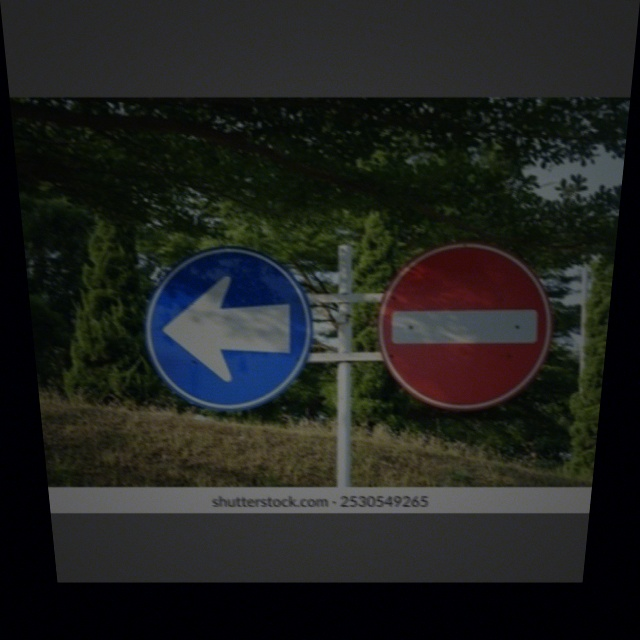Compulsory_Turn_Left: (136, 245, 312, 409)
